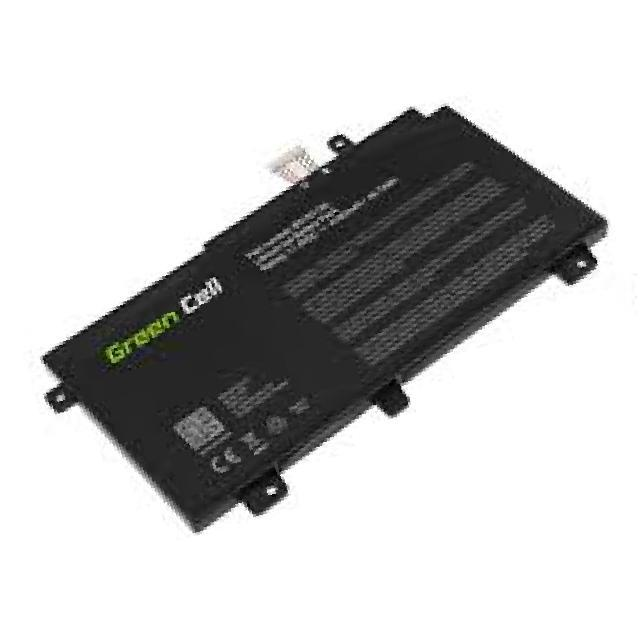Battery: (6, 65, 640, 534)
